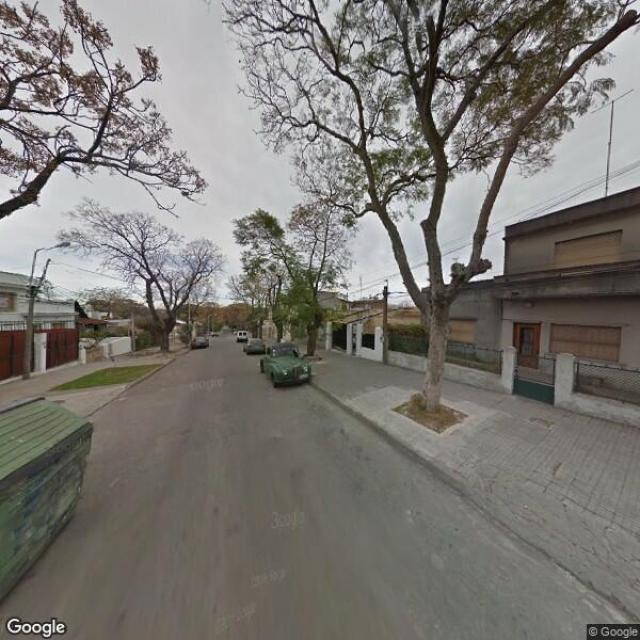garbage container: (2, 392, 106, 610)
